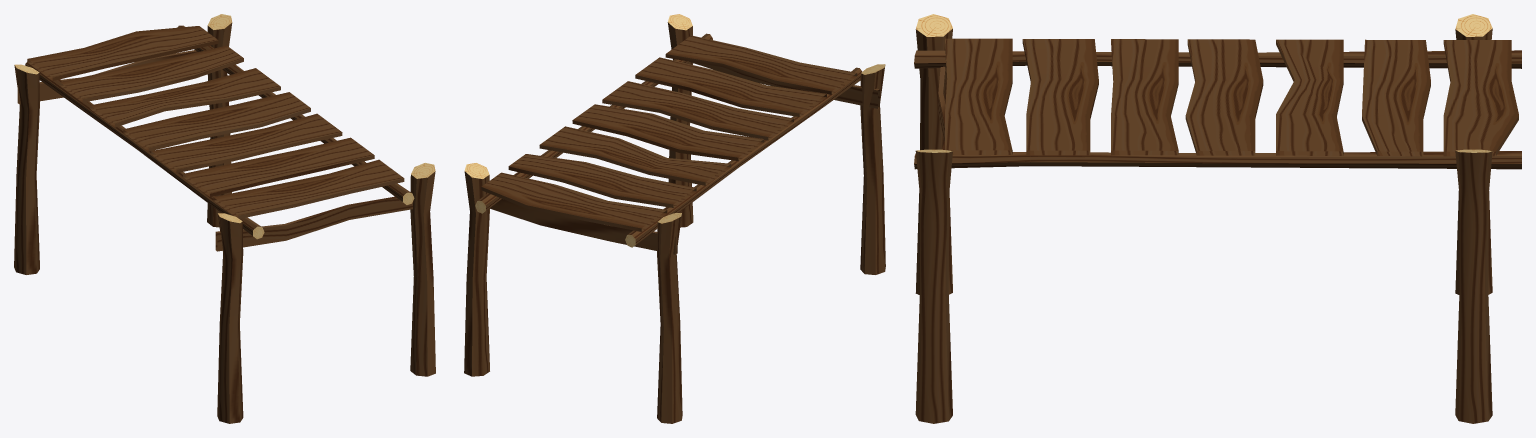
File: Bridge_01.FBX
The picture shows the model from 3 angles, left to right: view 1: azimuth 30°, elevation 25°; view 2: azimuth 150°, elevation 25°; view 3: azimuth 270°, elevation 25°; orthographic projection. The views are drawn at different scales.
Visible parts, largest first — view 1: Bridge_01; view 2: Bridge_01; view 3: Bridge_01.
Boxes of the visible parts, bbox=[...] form: Bridge_01: bbox=[14, 14, 435, 423]; Bridge_01: bbox=[464, 14, 885, 423]; Bridge_01: bbox=[914, 14, 1521, 423].
Size of the model in its own units: 58.8 by 53.1 by 108.
2 materials, 2 textured.
